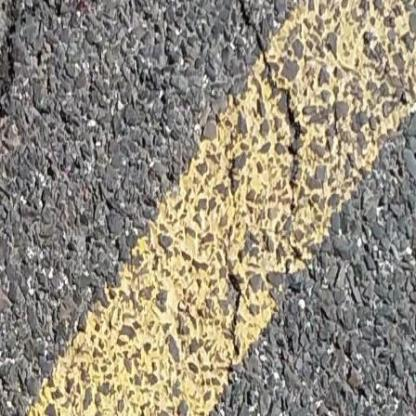Cracks: (248, 41, 337, 252), (193, 243, 278, 416), (205, 0, 293, 107), (2, 0, 52, 117)
